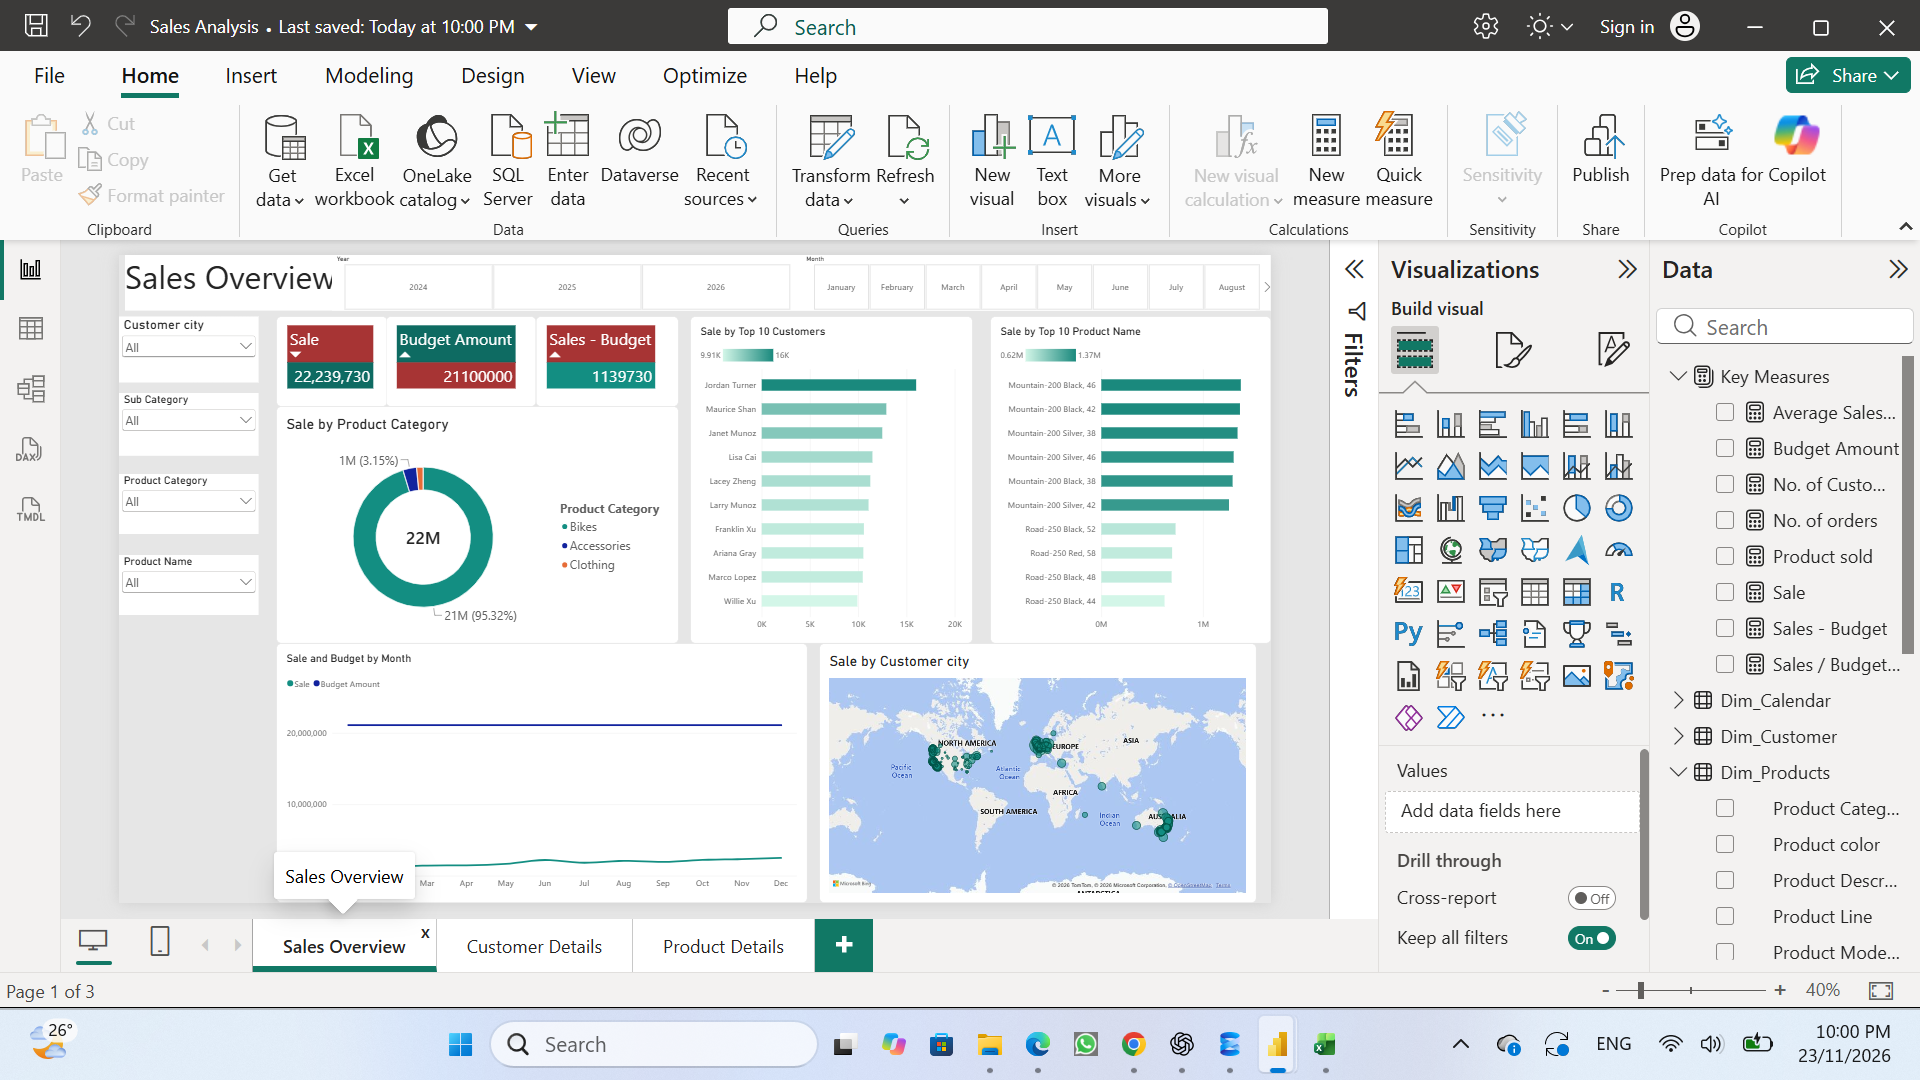

Layout of this report page (visuals, bound fields, positions):
{"tool":"powerbi","page":{"name":"Sales Overview","canvas":[1920,1080],"ordinal":0},"visuals":[{"type":"textbox","box":[10,0,280,280],"z":0},{"type":"textbox","box":[10,0,1884.2,92.5],"z":1000},{"type":"slicer","fields":{"Values":["Dim_Customer.Customer city"]},"box":[0,102.5,232.4,110],"z":2000},{"type":"slicer","fields":{"Values":["Dim_Products.Sub Category"]},"box":[0,229.9,232.4,105],"z":3000},{"type":"slicer","fields":{"Values":["Dim_Products.Product Category"]},"box":[0,364.8,232.4,100],"z":4000},{"type":"slicer","fields":{"Values":["Dim_Products.Product Name"]},"box":[0,499.8,232.4,100],"z":5000},{"type":"slicer","fields":{"Values":["Dim_Calendar.Year"]},"box":[354.8,0,782.2,92.5],"z":6000},{"type":"slicer","fields":{"Values":["Dim_Calendar.Month"]},"box":[1137,0,782.2,92.5],"z":7000},{"type":"tableEx","fields":{"Values":["Fact_Internetsale.Sale"]},"box":[262.4,102.5,184.9,149.9],"z":8000},{"type":"tableEx","fields":{"Values":["Key Measures.Budget Amount"]},"box":[444.8,102.5,249.9,149.9],"z":9000},{"type":"tableEx","fields":{"Values":["Key Measures.Sales vs Budget"]},"box":[694.7,102.5,237.4,149.9],"z":10000},{"type":"donutChart","fields":{"Category":["Dim_Products.Product Category"],"Y":["Key Measures.Sale"]},"box":[262.4,252.4,669.7,394.8],"z":11000},{"type":"lineChart","title":"Sale and Budget by Month","fields":{"Category":["Dim_Calendar.Monthshort"],"Y":["Key Measures.Sale","Key Measures.Budget Amount"]},"box":[262.4,647.2,884.6,432.3],"z":12000},{"type":"barChart","title":"Sale by Top 10 Customers","fields":{"Category":["Dim_Customer.FullName"],"Y":["Key Measures.Sale"]},"box":[952.1,102.5,469.8,544.8],"z":13000},{"type":"barChart","title":"Sale by Top 10 Product Name","fields":{"Category":["Dim_Products.Product Name"],"Y":["Key Measures.Sale"]},"box":[1451.9,102.5,467.3,544.8],"z":14000},{"type":"map","title":"Sale by Customer city","fields":{"Category":["Dim_Customer.Customer city"],"Size":["Key Measures.Sale"]},"box":[1166.7,646.6,727.7,431.9],"z":15000}]}

Visuals, with their boxes on the page's 1920x1080 design canvas (x1, y1, x2, y2). These are canvas units, not pixel positions in the 1920x1080 screenshot, which may show the page scaled, cropped or inside an application window:
textbox: (left=10, top=0, right=290, bottom=280)
textbox: (left=10, top=0, right=1894, bottom=92)
slicer - Dim_Customer.Customer city: (left=0, top=102, right=232, bottom=212)
slicer - Dim_Products.Sub Category: (left=0, top=230, right=232, bottom=335)
slicer - Dim_Products.Product Category: (left=0, top=365, right=232, bottom=465)
slicer - Dim_Products.Product Name: (left=0, top=500, right=232, bottom=600)
slicer - Dim_Calendar.Year: (left=355, top=0, right=1137, bottom=92)
slicer - Dim_Calendar.Month: (left=1137, top=0, right=1919, bottom=92)
tableEx - Fact_Internetsale.Sale: (left=262, top=102, right=447, bottom=252)
tableEx - Key Measures.Budget Amount: (left=445, top=102, right=695, bottom=252)
tableEx - Key Measures.Sales vs Budget: (left=695, top=102, right=932, bottom=252)
donutChart - Dim_Products.Product Category x Key Measures.Sale: (left=262, top=252, right=932, bottom=647)
"Sale and Budget by Month" lineChart: (left=262, top=647, right=1147, bottom=1080)
"Sale by Top 10 Customers" barChart: (left=952, top=102, right=1422, bottom=647)
"Sale by Top 10 Product Name" barChart: (left=1452, top=102, right=1919, bottom=647)
"Sale by Customer city" map: (left=1167, top=647, right=1894, bottom=1078)
